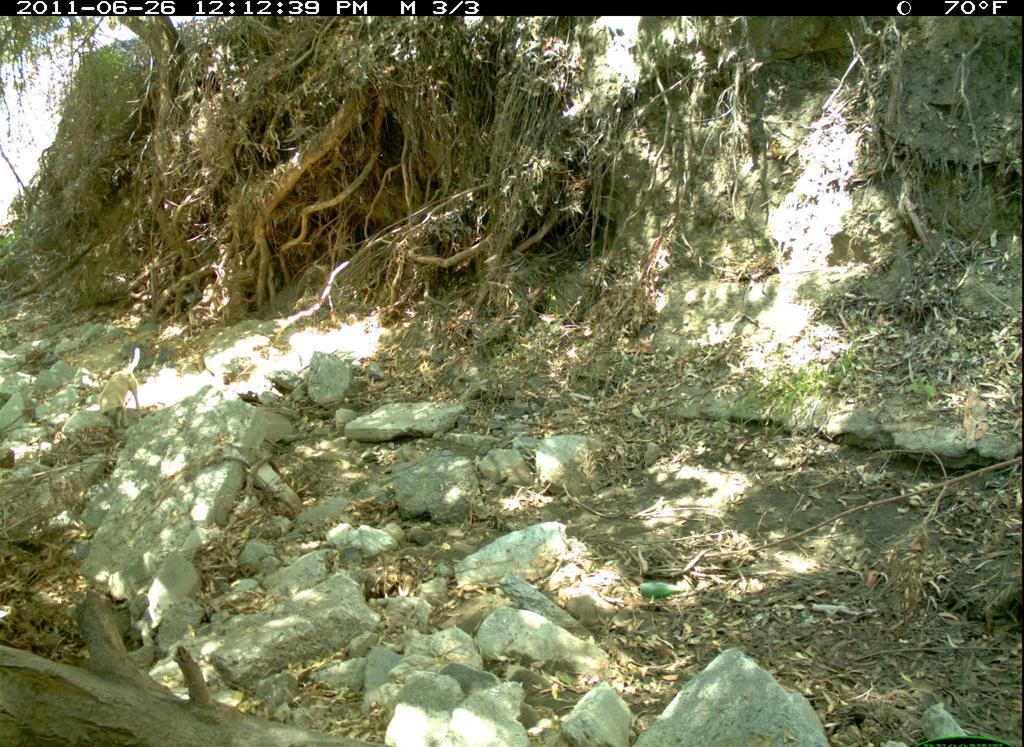dog: (91, 344, 161, 442)
